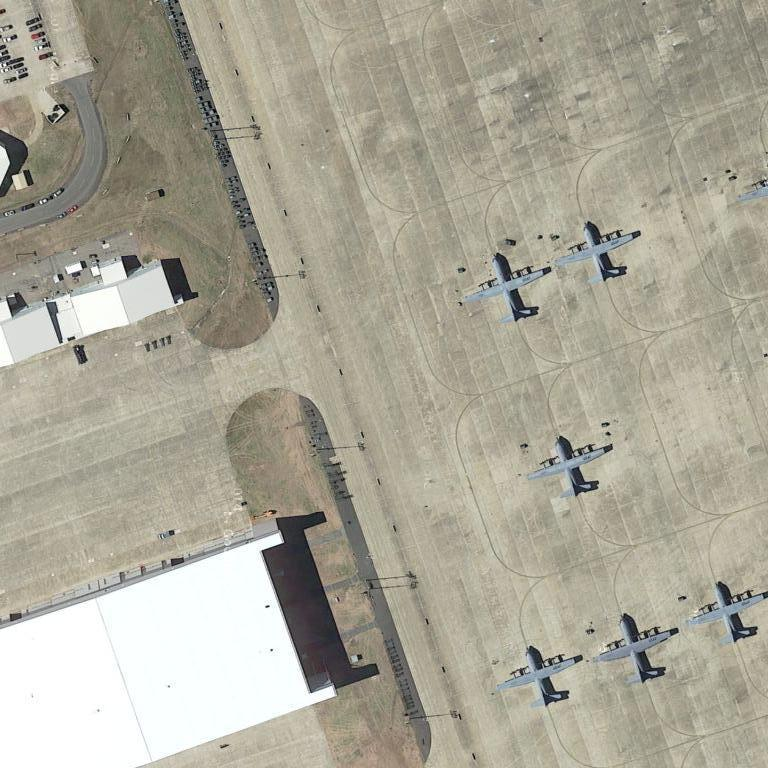C-130: (460, 251, 553, 330), (525, 428, 615, 505), (492, 642, 586, 714), (596, 611, 682, 687), (557, 220, 642, 289), (685, 581, 763, 649)
